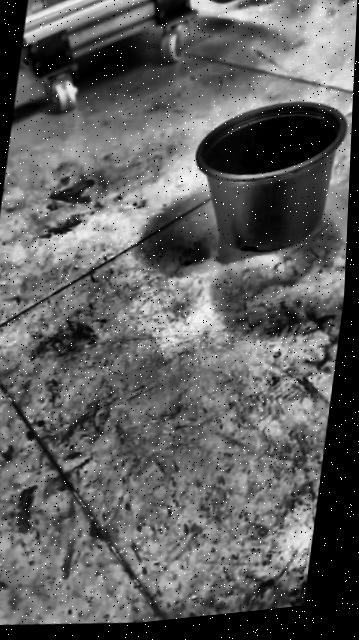pot: (182, 88, 351, 264)
